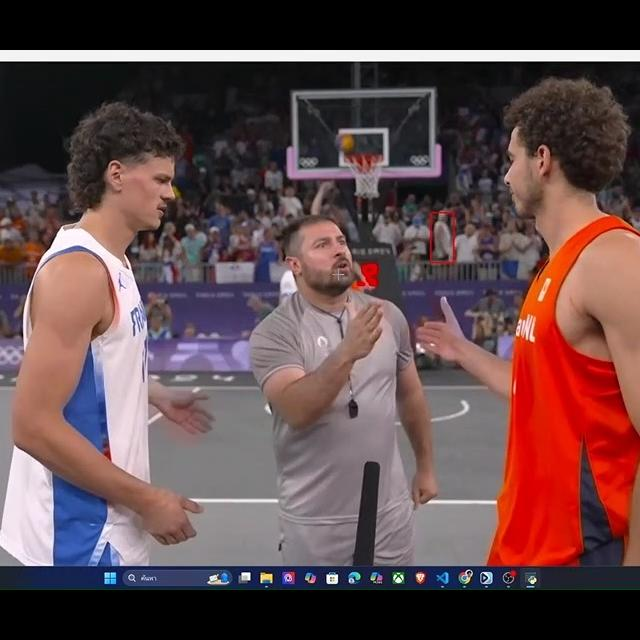basketball: (334, 132, 356, 149)
hoop: (342, 156, 388, 196)
